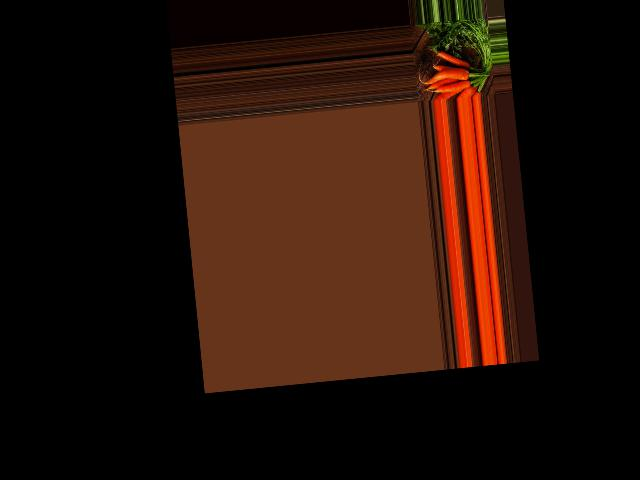carrot: (457, 81, 479, 99)
